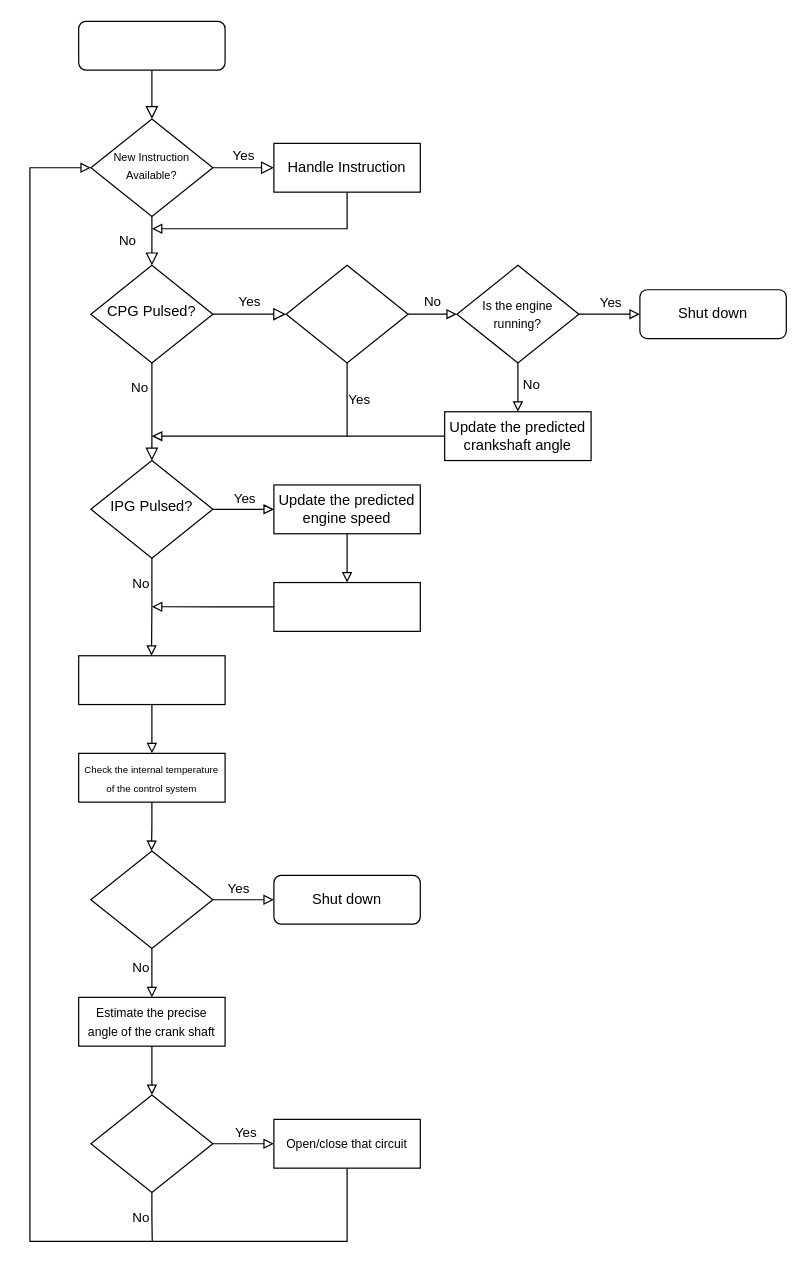
The diagram is 808 pixels wide and 1272 high, and some of its shapes have lost their labels. The box of each missing label's shape, as (x1, y1, x2, y2) in pixels:
Do any of coil/injector circuits need to be opened or closed?: (90, 1094, 213, 1193)
Does this agree with the predicted crankshaft angle?: (285, 264, 408, 363)
Increment the predicted crank angle: (273, 581, 420, 631)
Initialise Variables, Pins and Serial: (77, 20, 225, 70)
Internal temperature too high?: (90, 850, 213, 949)
Update Engine Timings based on Engine Speed: (77, 655, 225, 705)
